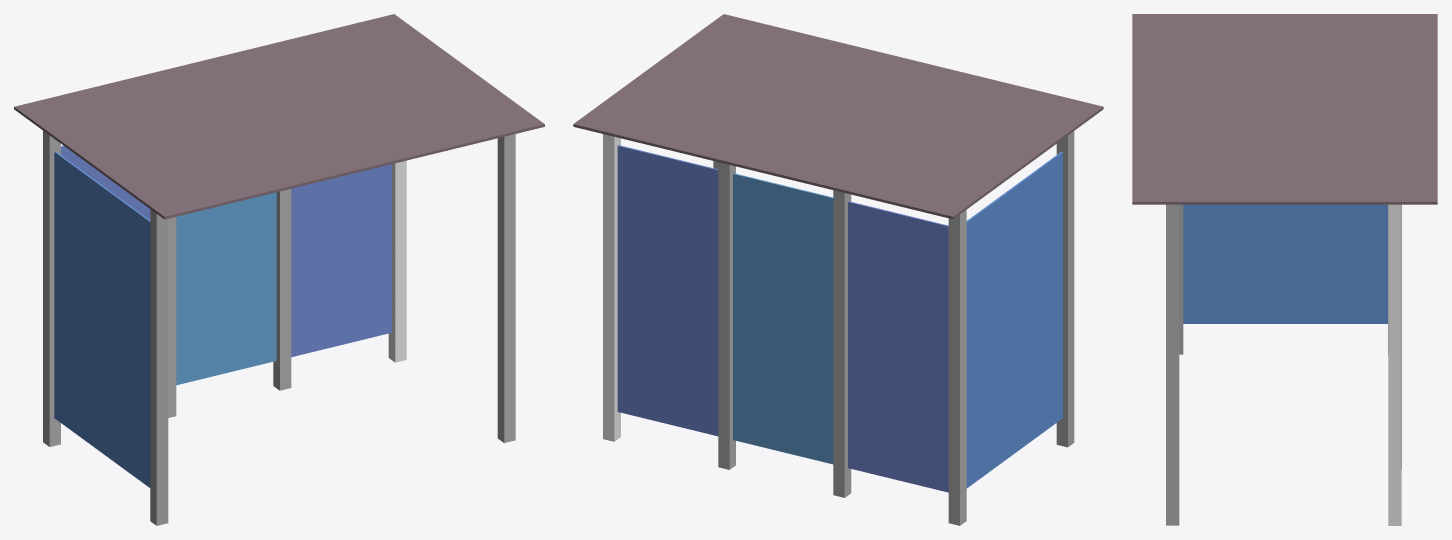
File: StopBus.fbx
3 renders of one model, left to right at view 1: azimuth 30°, elevation 25°; view 2: azimuth 150°, elevation 25°; view 3: azimuth 270°, elevation 25°, orthographic.
Parts seen in each view (by area): view 1: Cube.019, Cube.017, Cube.014, Cube.012, Cube.006, Cube.011, Cube.008, Cube.021, Cube.020, Cube.022, Cube.007; view 2: Cube.019, Cube.014, Cube.012, Cube.007, Cube.017, Cube.008, Cube.022, Cube.021, Cube.020, Cube.006; view 3: Cube.019, Cube.017, Cube.020, Cube.011, Cube.006.
Boxes of the visible parts, x1=… form: Cube.019: x1=14, y1=14, x2=544, y2=219; Cube.017: x1=54, y1=151, x2=150, y2=487; Cube.014: x1=291, y1=164, x2=391, y2=357; Cube.012: x1=176, y1=192, x2=276, y2=385; Cube.006: x1=150, y1=209, x2=168, y2=525; Cube.011: x1=497, y1=134, x2=515, y2=442; Cube.008: x1=43, y1=131, x2=60, y2=446; Cube.021: x1=273, y1=189, x2=291, y2=390; Cube.020: x1=388, y1=160, x2=406, y2=362; Cube.022: x1=168, y1=217, x2=176, y2=417; Cube.007: x1=61, y1=145, x2=150, y2=219; Cube.019: x1=573, y1=14, x2=1103, y2=219; Cube.014: x1=617, y1=145, x2=718, y2=436; Cube.012: x1=733, y1=173, x2=833, y2=464; Cube.007: x1=848, y1=201, x2=948, y2=492; Cube.017: x1=966, y1=152, x2=1062, y2=488; Cube.008: x1=948, y1=210, x2=966, y2=525; Cube.022: x1=833, y1=190, x2=851, y2=497; Cube.021: x1=718, y1=162, x2=735, y2=469; Cube.020: x1=603, y1=134, x2=620, y2=441; Cube.006: x1=1056, y1=131, x2=1074, y2=447; Cube.019: x1=1132, y1=14, x2=1437, y2=204; Cube.017: x1=1183, y1=204, x2=1387, y2=323; Cube.020: x1=1388, y1=204, x2=1401, y2=525; Cube.011: x1=1166, y1=204, x2=1179, y2=525; Cube.006: x1=1179, y1=204, x2=1183, y2=354.
Bounding box in the file's own units: 624 × 510 × 428.
